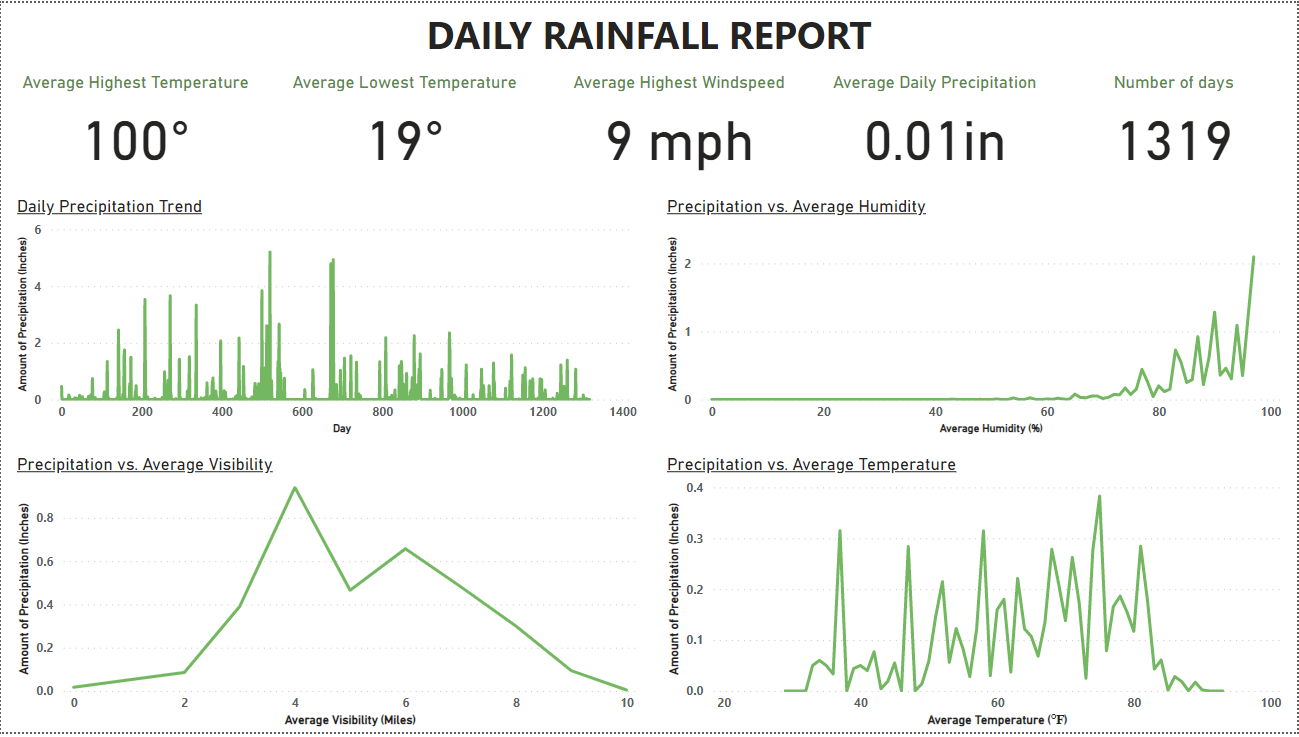

This screenshot's page, from the dashboard's own definition file:
{"tool":"powerbi","page":{"name":"Report","canvas":[1280,720],"ordinal":0},"visuals":[{"type":"textbox","box":[0,0,1280,60.3],"z":0},{"type":"card","title":"Average Highest Temperature","fields":{"Values":["Min(austin_weather_vba.TempHighF)"]},"box":[10.7,68.1,244.1,102.1],"z":1000},{"type":"card","title":"Average Lowest Temperature","fields":{"Values":["Min(austin_weather_vba.TempLowF)"]},"box":[279.1,68.1,238.3,102.1],"z":2000},{"type":"card","title":"Average Highest Windspeed","fields":{"Values":["Max(austin_weather_vba.WindHighMPH)"]},"box":[540.8,68.1,256.8,102.1],"z":3000},{"type":"card","title":"Average Daily Precipitation","fields":{"Values":["Min(austin_weather_vba.PrecipitationSumInches)"]},"box":[812.2,68.1,220.8,102.1],"z":4000},{"type":"lineChart","title":"Daily Precipitation Trend","fields":{"Y":["Avg(austin_weather_clean.PrecipitationSumInches)"],"Category":["austin_weather_clean.Column1"]},"box":[10.7,190.6,622.5,240.2],"z":5000},{"type":"card","title":"Number of days","fields":{"Values":["Count(austin_weather_clean.Column1)"]},"box":[1046.6,68.1,222.7,102.1],"z":6000},{"type":"lineChart","title":"Precipitation vs.  Average Visibility","fields":{"Category":["austin_weather_clean.VisibilityAvgMiles"],"Y":["Avg(austin_weather_clean.PrecipitationSumInches)"]},"box":[10.7,445.5,622.5,274.3],"z":7000},{"type":"lineChart","title":"Precipitation vs. Average Humidity","fields":{"Y":["Avg(austin_weather_clean.PrecipitationSumInches)"],"Category":["austin_weather_clean.HumidityAvgPercent"]},"box":[652.6,190.6,616.7,240.2],"z":8000},{"type":"lineChart","title":"Precipitation vs. Average Temperature","fields":{"Y":["Avg(austin_weather_clean.PrecipitationSumInches)"],"Category":["austin_weather_clean.TempAvgF"]},"box":[653,445,617,274],"z":9000}]}

Visuals, with their boxes in screenshot pixels (x1, y1, x2, y2), scaled from the page's 1280x720 canvas onto the 1299x737 screenshot:
textbox: 0:0:1298:62
"Average Highest Temperature" card: 11:70:259:174
"Average Lowest Temperature" card: 283:70:525:174
"Average Highest Windspeed" card: 549:70:809:174
"Average Daily Precipitation" card: 824:70:1048:174
"Daily Precipitation Trend" lineChart: 11:195:643:441
"Number of days" card: 1062:70:1288:174
"Precipitation vs.  Average Visibility" lineChart: 11:456:643:736
"Precipitation vs. Average Humidity" lineChart: 662:195:1288:441
"Precipitation vs. Average Temperature" lineChart: 663:456:1289:736
